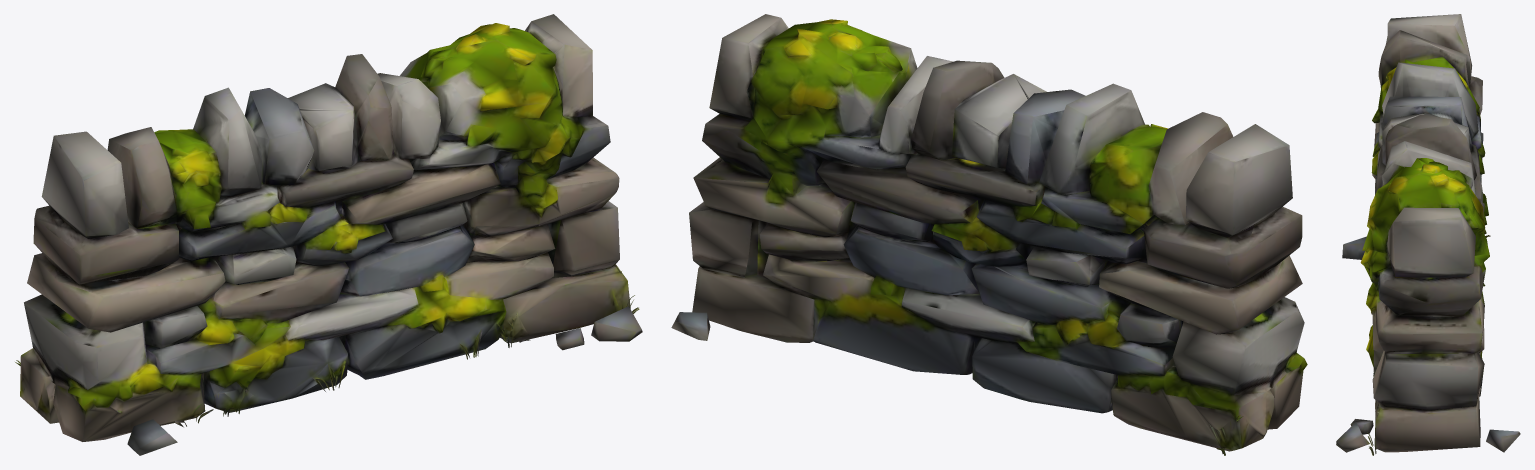
Rendered from stonewall-low.glb.
3 renders of one model, left to right at view 1: azimuth 30°, elevation 25°; view 2: azimuth 150°, elevation 25°; view 3: azimuth 270°, elevation 25°, orthographic. The views are drawn at different scales.
Visible parts, largest first — view 1: node_0; view 2: node_0; view 3: node_0.
Part boxes in pixels (x1=…): node_0: x1=15, y1=14, x2=642, y2=455; node_0: x1=671, y1=14, x2=1307, y2=455; node_0: x1=1336, y1=14, x2=1520, y2=455.
Size of the model in its own units: 2 by 0.9957 by 0.6903.
1 material, 1 textured.
